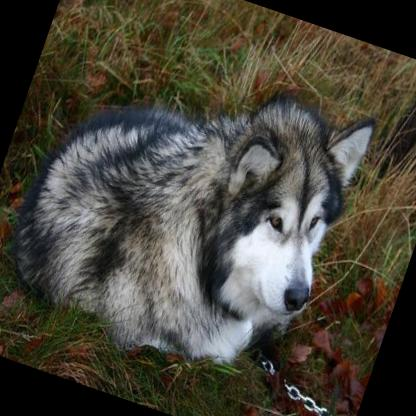malamute: (0, 14, 385, 393)
